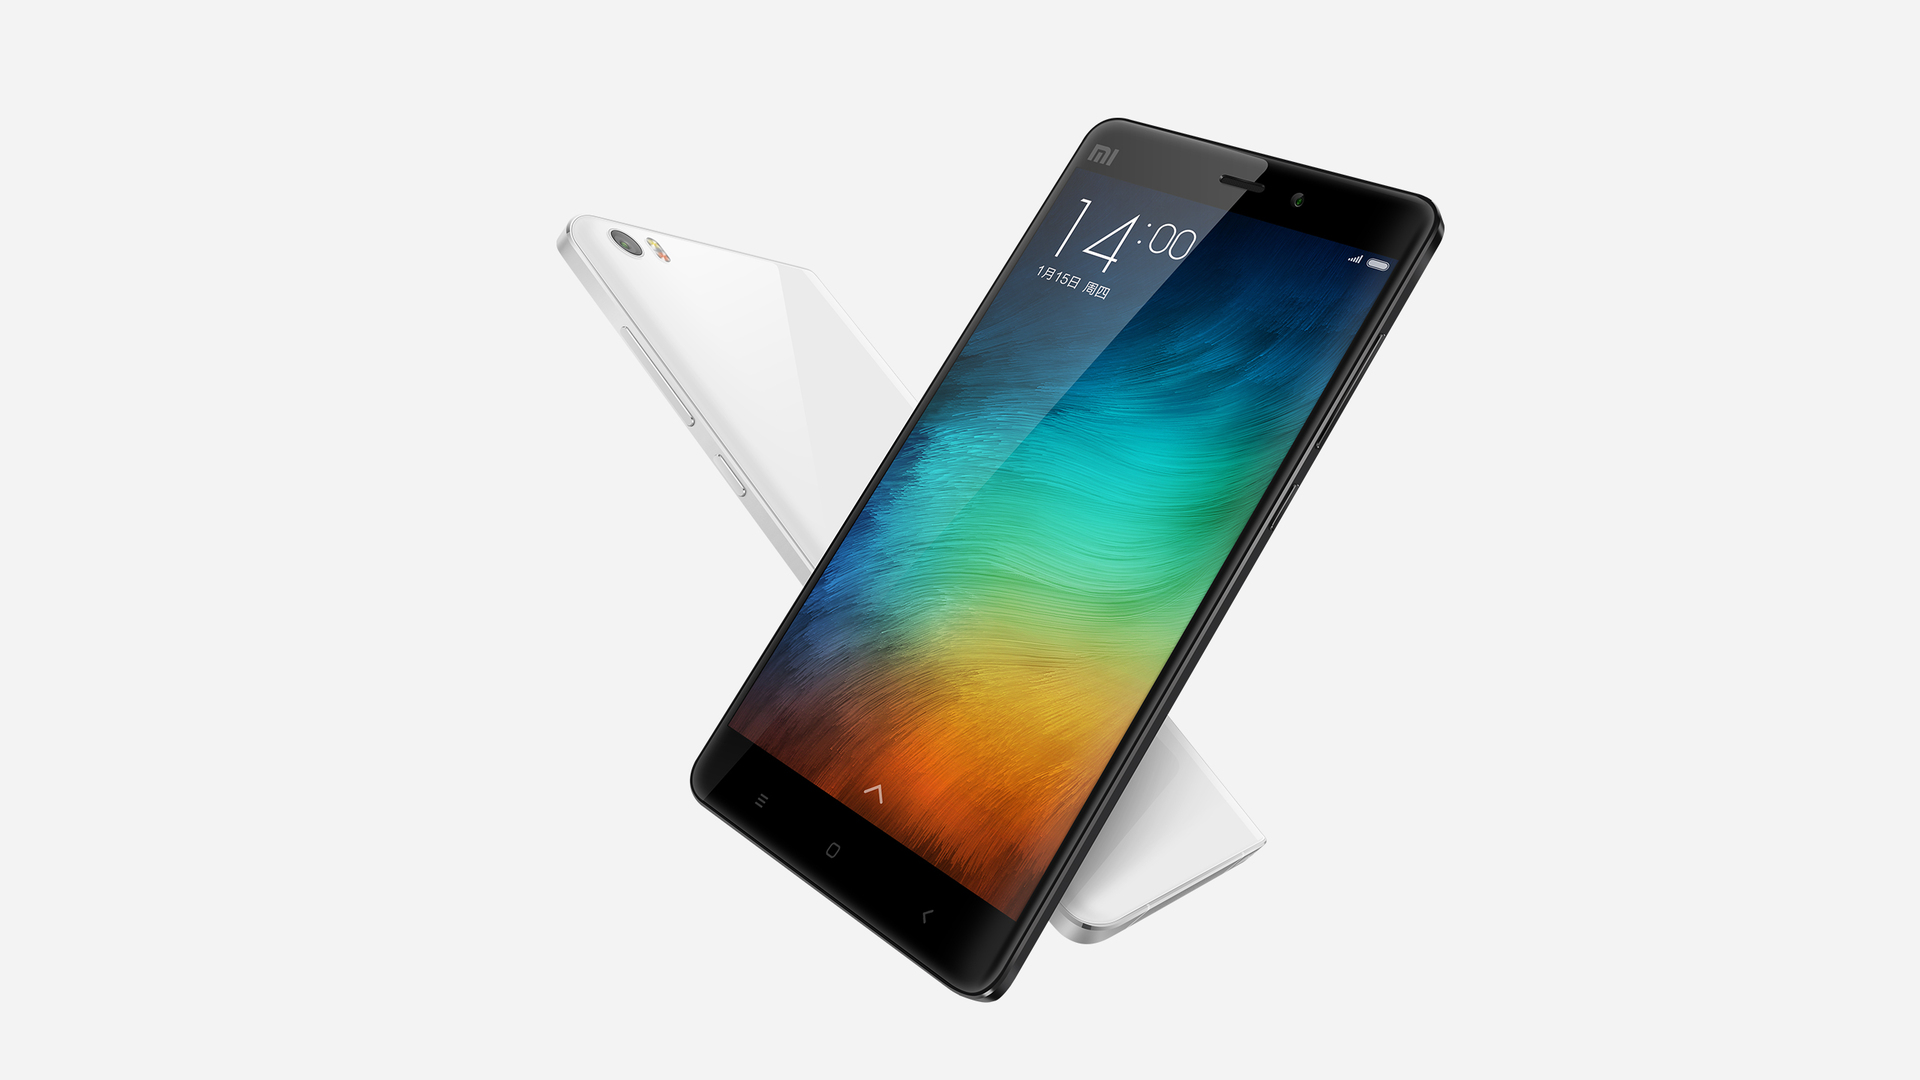smartphone: (688, 115, 1444, 1002), (555, 214, 1269, 944)
